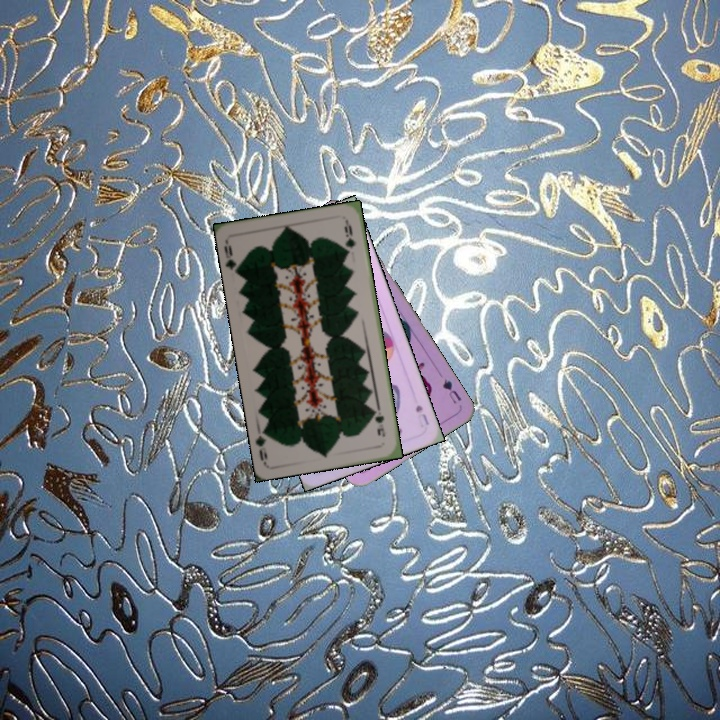G9: (220, 237, 243, 277), (370, 403, 388, 439)
GU: (438, 375, 464, 406)
SU: (411, 401, 431, 428)
